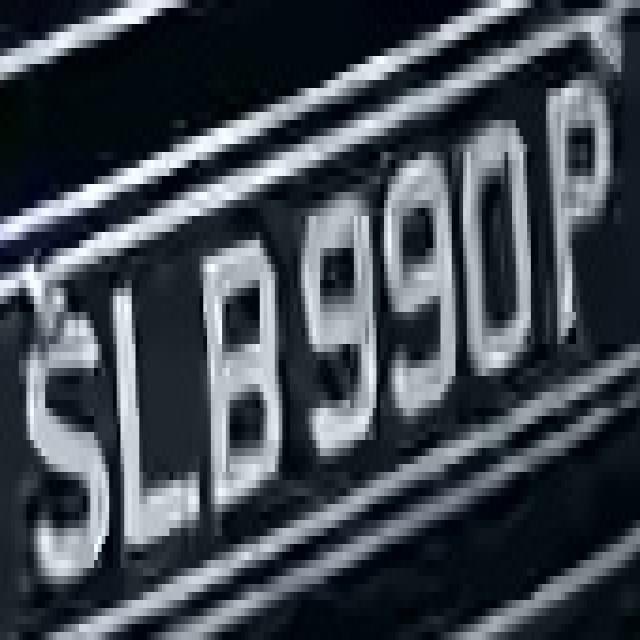0: (456, 96, 538, 400)
9: (290, 168, 388, 472), (376, 120, 456, 448)
B: (181, 208, 290, 528)
L: (102, 256, 218, 584)
P: (535, 72, 621, 336)
S: (19, 296, 109, 600)
